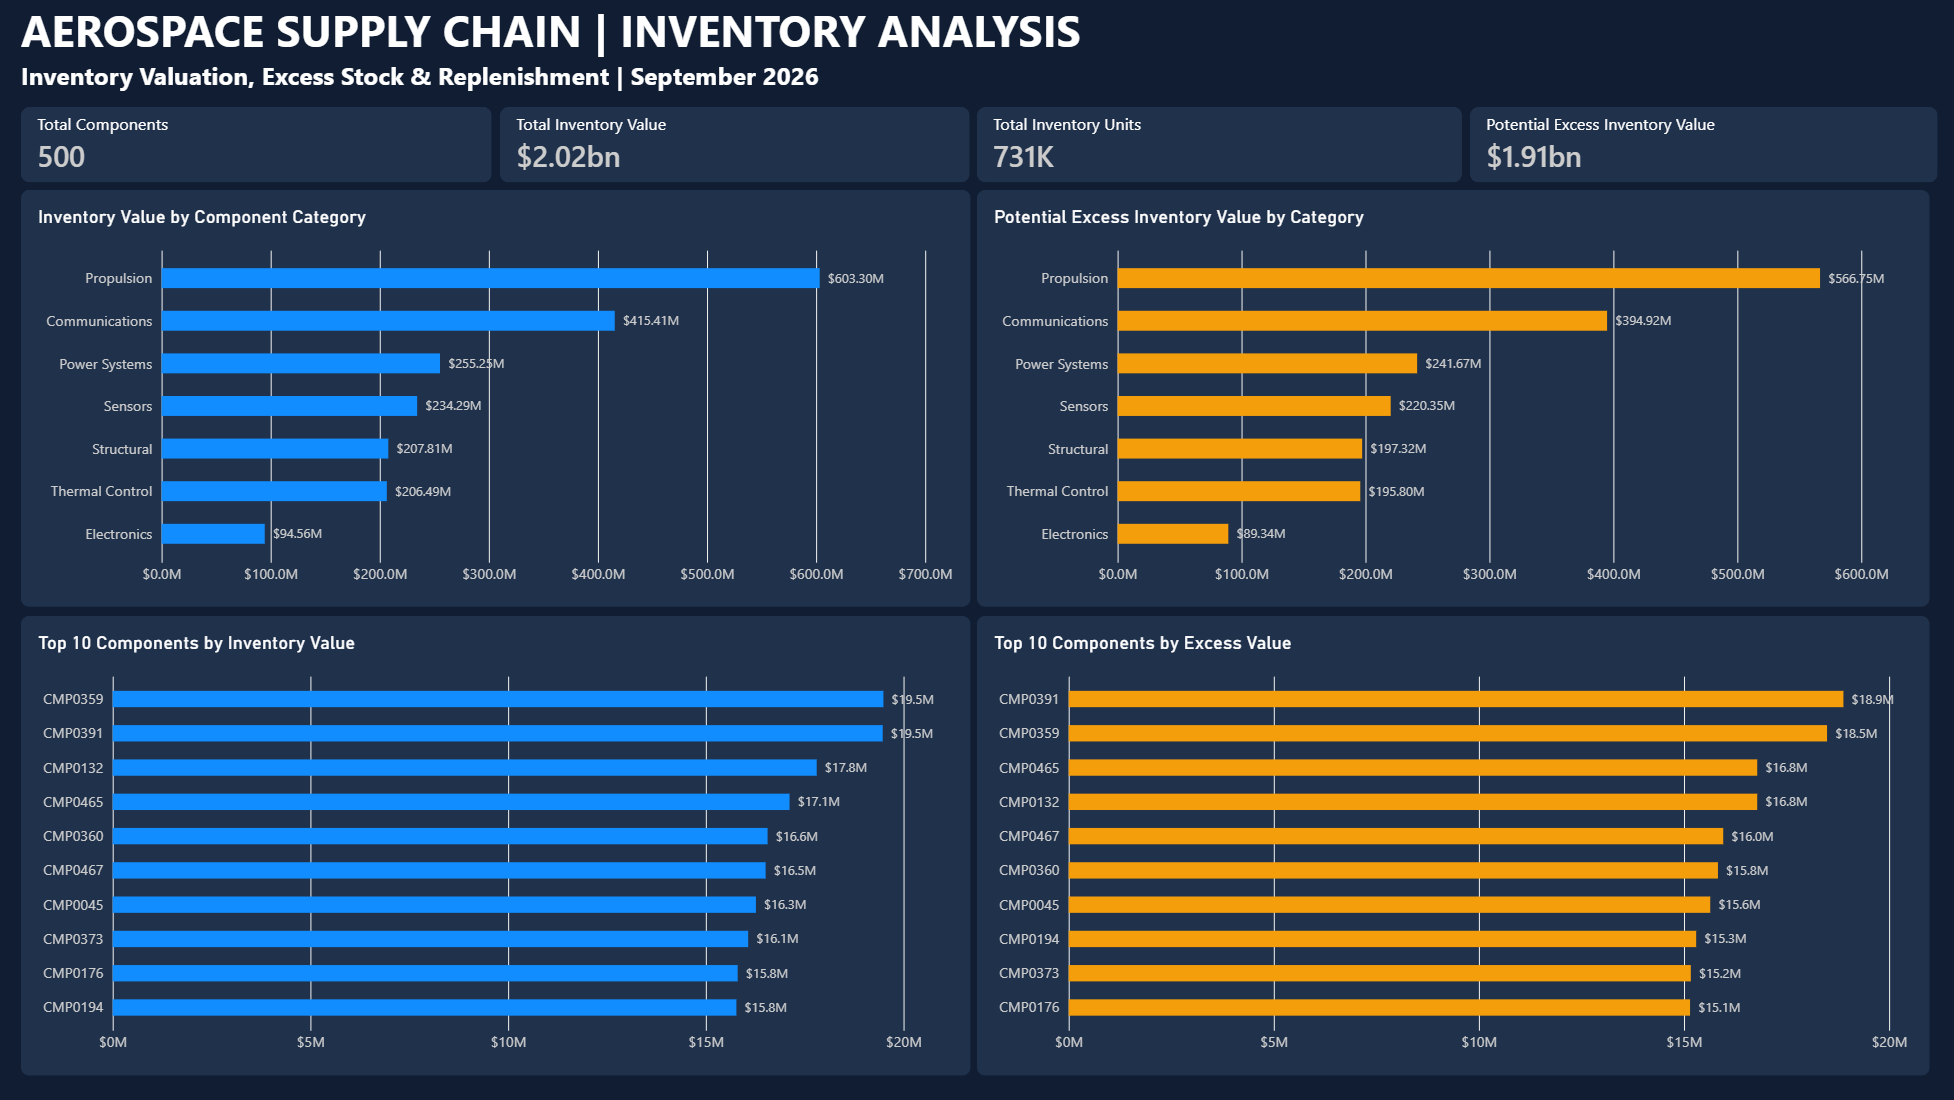

What the dashboard file says about the page in this screenshot:
{"tool":"powerbi","page":{"name":"Inventory Analysis","canvas":[1920,1080],"ordinal":3},"visuals":[{"type":"textbox","box":[21.6,0,1072.9,99.1],"z":0},{"type":"cardVisual","fields":{"Data":["vw_inventory_valuation.Total Components"]},"box":[21.6,105,462.3,74.6],"z":1000},{"type":"cardVisual","fields":{"Data":["vw_inventory_valuation.Total Inventory Value"]},"box":[491.8,105,461.3,74.6],"z":2000},{"type":"cardVisual","fields":{"Data":["vw_excess_inventory.Potential Excess Inventory Value"]},"box":[1443.9,105,459.4,74.6],"z":3000},{"type":"cardVisual","fields":{"Data":["vw_inventory_valuation.Total Inventory Units"]},"box":[960,105,476.1,74.6],"z":4000},{"type":"clusteredBarChart","title":"Inventory Value by Component Category","fields":{"Category":["vw_inventory_valuation.Category"],"Y":["vw_inventory_valuation.Total Inventory Value"]},"box":[21.6,186.5,931.5,409.3],"z":5000},{"type":"clusteredBarChart","fields":{"Category":["vw_inventory_valuation.Category"],"Y":["vw_excess_inventory.Potential Excess Inventory Value"]},"box":[960,186.5,935.5,409.3],"z":6000},{"type":"clusteredBarChart","title":"Top 10 Components by Inventory Value","fields":{"Category":["vw_inventory_valuation.ComponentID"],"Y":["vw_inventory_valuation.Total Inventory Value"]},"box":[21.6,604.7,931.5,450.6],"z":7000},{"type":"clusteredBarChart","title":"Top 10 Components by Excess Value","fields":{"Category":["vw_inventory_valuation.ComponentID"],"Y":["vw_excess_inventory.Potential Excess Inventory Value"]},"box":[960,604.7,935.5,450.6],"z":8000}]}

Visuals, with their boxes in screenshot pixels (x1, y1, x2, y2), scaled from the page's 1920x1080 canvas onto the 1954x1100 screenshot:
textbox: (22, 0, 1114, 101)
cardVisual - vw_inventory_valuation.Total Components: (22, 107, 492, 183)
cardVisual - vw_inventory_valuation.Total Inventory Value: (501, 107, 970, 183)
cardVisual - vw_excess_inventory.Potential Excess Inventory Value: (1469, 107, 1937, 183)
cardVisual - vw_inventory_valuation.Total Inventory Units: (977, 107, 1462, 183)
"Inventory Value by Component Category" clusteredBarChart: (22, 190, 970, 607)
clusteredBarChart - vw_inventory_valuation.Category x vw_excess_inventory.Potential Excess Inventory Value: (977, 190, 1929, 607)
"Top 10 Components by Inventory Value" clusteredBarChart: (22, 616, 970, 1075)
"Top 10 Components by Excess Value" clusteredBarChart: (977, 616, 1929, 1075)
